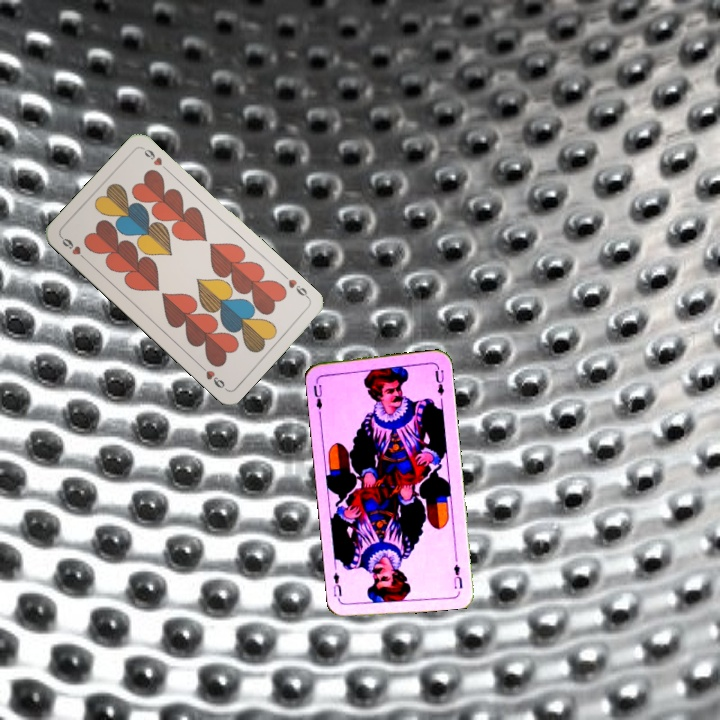EU: (309, 376, 325, 412), (449, 560, 465, 591)
H9: (57, 233, 91, 264), (284, 275, 312, 302)
